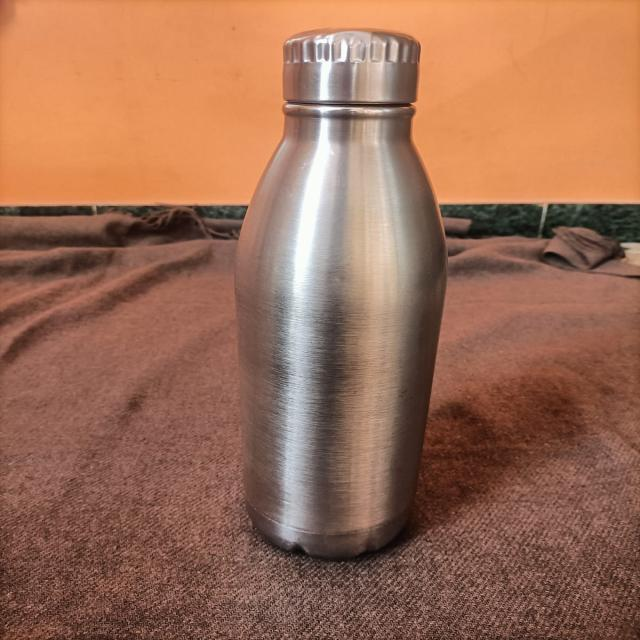bottle: (178, 7, 500, 597)
